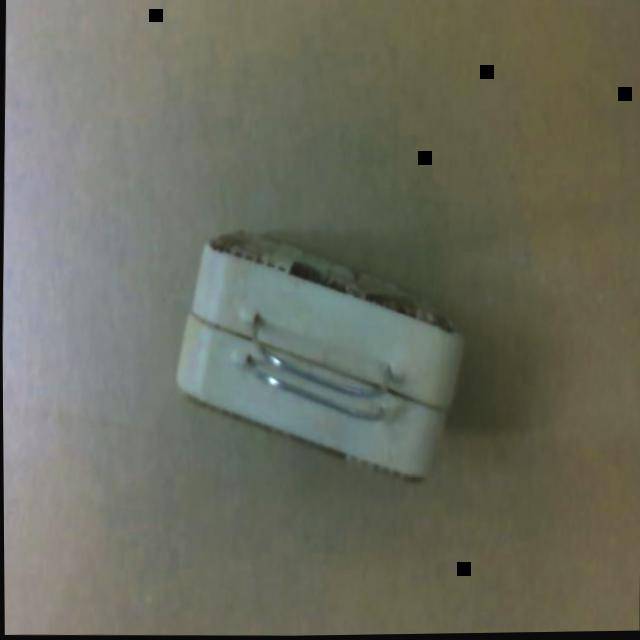luggage: (161, 219, 491, 506)
